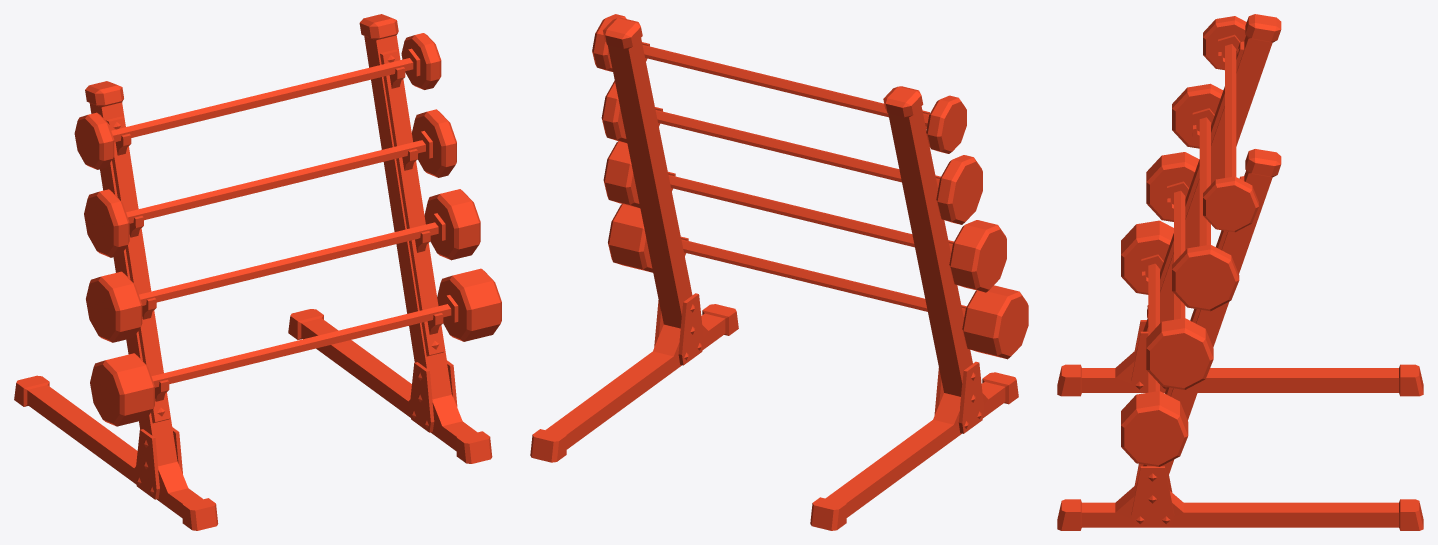
The model's file is SM_Barbel_Stand_Gym_City.fbx.
The picture shows the model from 3 angles, left to right: view 1: azimuth 30°, elevation 25°; view 2: azimuth 150°, elevation 25°; view 3: azimuth 270°, elevation 25°; orthographic projection. The views are drawn at different scales.
Visible parts, largest first — view 1: SM_Barbell_Stand_Gym_City_Base, SM_Barbell_Stand_Gym_City_Barbell_A, SM_Barbell_Stand_Gym_City_Barbell_B, SM_Barbell_Stand_Gym_City_Barbell_C, SM_Barbell_Stand_Gym_City_Barbell_D; view 2: SM_Barbell_Stand_Gym_City_Base, SM_Barbell_Stand_Gym_City_Barbell_A, SM_Barbell_Stand_Gym_City_Barbell_B, SM_Barbell_Stand_Gym_City_Barbell_C, SM_Barbell_Stand_Gym_City_Barbell_D; view 3: SM_Barbell_Stand_Gym_City_Base, SM_Barbell_Stand_Gym_City_Barbell_A, SM_Barbell_Stand_Gym_City_Barbell_B, SM_Barbell_Stand_Gym_City_Barbell_C, SM_Barbell_Stand_Gym_City_Barbell_D.
Boxes of the visible parts, box(x1,y1,x2,y2) form: SM_Barbell_Stand_Gym_City_Base: box(14, 14, 492, 530); SM_Barbell_Stand_Gym_City_Barbell_A: box(90, 268, 501, 426); SM_Barbell_Stand_Gym_City_Barbell_B: box(86, 189, 480, 342); SM_Barbell_Stand_Gym_City_Barbell_C: box(84, 109, 456, 257); SM_Barbell_Stand_Gym_City_Barbell_D: box(74, 33, 441, 169); SM_Barbell_Stand_Gym_City_Base: box(530, 18, 1018, 530); SM_Barbell_Stand_Gym_City_Barbell_A: box(608, 204, 1028, 359); SM_Barbell_Stand_Gym_City_Barbell_B: box(603, 141, 1006, 292); SM_Barbell_Stand_Gym_City_Barbell_C: box(601, 80, 982, 224); SM_Barbell_Stand_Gym_City_Barbell_D: box(592, 14, 966, 153); SM_Barbell_Stand_Gym_City_Base: box(1057, 14, 1423, 530); SM_Barbell_Stand_Gym_City_Barbell_A: box(1121, 220, 1188, 466); SM_Barbell_Stand_Gym_City_Barbell_B: box(1146, 152, 1213, 389); SM_Barbell_Stand_Gym_City_Barbell_C: box(1172, 83, 1239, 311); SM_Barbell_Stand_Gym_City_Barbell_D: box(1203, 16, 1258, 232).
Bounding box in the file's own units: 1.45 × 1.34 × 1.2.
